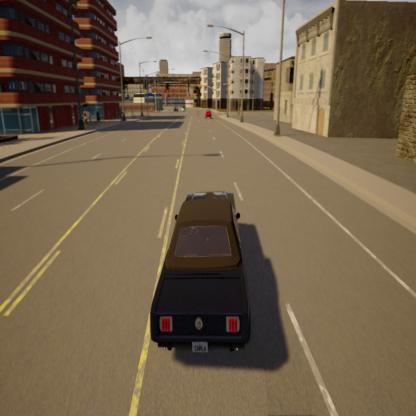Cars: (152, 151, 252, 372), (202, 108, 214, 122), (172, 102, 180, 114), (180, 103, 186, 114)
